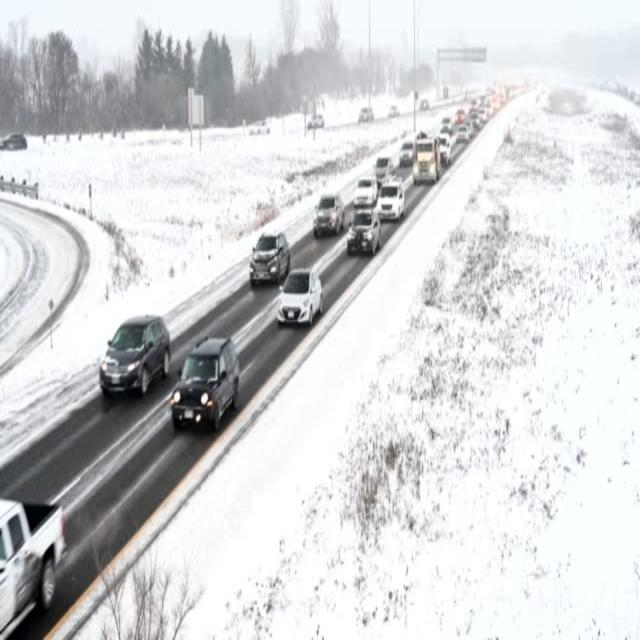bus: (413, 136, 440, 183)
car: (0, 496, 67, 639), (168, 336, 240, 433), (98, 315, 174, 399), (277, 267, 324, 327), (251, 230, 291, 287), (346, 208, 382, 257), (313, 193, 341, 237), (377, 180, 405, 222), (352, 178, 378, 206), (2, 130, 28, 151), (438, 135, 450, 165), (373, 160, 392, 178), (400, 140, 413, 166), (247, 118, 268, 134), (356, 105, 374, 123), (307, 116, 324, 130), (456, 125, 469, 143), (439, 118, 452, 135), (386, 106, 398, 121), (454, 108, 464, 125), (470, 112, 480, 128), (478, 106, 488, 120), (470, 98, 476, 108)
